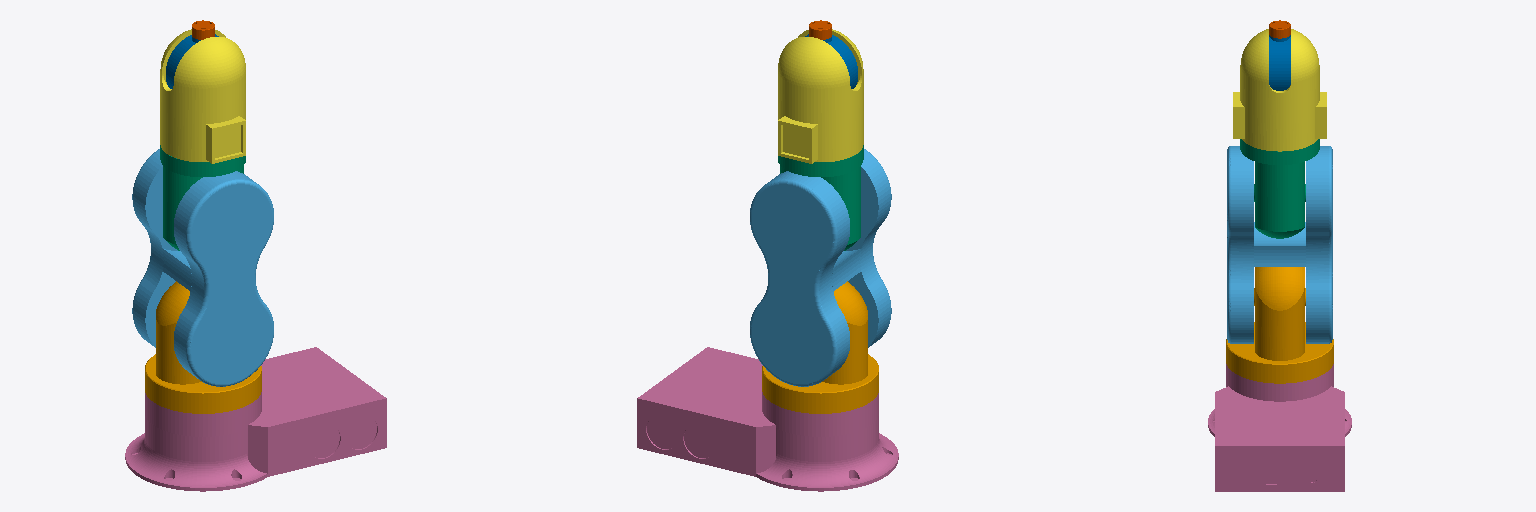
robot.urdf — thor_robot:
<robot name="thor_robot" version="1.0">
  <joint name="junta1" type="revolute">
    <limit lower="-3.140000" upper="3.140000" effort="0.000000" velocity="0.000000"/>
    <origin rpy="0.000000 0.000000 0.000000" xyz="0.000000 0.000000 0.098000"/>
    <parent link="base.000"/>
    <child link="Art1_3d_link"/>
    <axis xyz="0.000000 0.000000 1.000000"/>
  </joint>
  <joint name="junta2" type="revolute">
    <limit lower="-3.140000" upper="3.140000" effort="0.000000" velocity="0.000000"/>
    <origin rpy="-1.570796 0.000000 0.000000" xyz="0.000000 -0.000000 0.098000"/>
    <parent link="Art1_3d_link"/>
    <child link="art2_3d_link"/>
    <axis xyz="0.000000 0.000000 1.000000"/>
  </joint>
  <joint name="junta3" type="revolute">
    <limit lower="-3.140000" upper="3.140000" effort="0.000000" velocity="0.000000"/>
    <origin rpy="-0.000000 0.000000 0.000000" xyz="0.000000 -0.160000 -0.000000"/>
    <parent link="art2_3d_link"/>
    <child link="art3_3d_link"/>
    <axis xyz="0.000000 0.000000 1.000000"/>
  </joint>
  <joint name="junta4" type="revolute">
    <limit lower="-3.140000" upper="3.140000" effort="0.000000" velocity="0.000000"/>
    <origin rpy="1.570796 0.000000 0.000000" xyz="0.000000 -0.088500 -0.000000"/>
    <parent link="art3_3d_link"/>
    <child link="art4_3d_link"/>
    <axis xyz="0.000000 0.000000 1.000000"/>
  </joint>
  <joint name="junta5" type="revolute">
    <limit lower="-3.140000" upper="3.140000" effort="0.000000" velocity="0.000000"/>
    <origin rpy="-1.570796 0.000000 0.000000" xyz="0.000000 -0.000000 0.104500"/>
    <parent link="art4_3d_link"/>
    <child link="art5_3d_link"/>
    <axis xyz="0.000000 0.000000 1.000000"/>
  </joint>
  <joint name="junta6" type="revolute">
    <limit lower="-3.140000" upper="3.140000" effort="0.000000" velocity="0.000000"/>
    <origin rpy="1.570796 0.000000 0.000000" xyz="0.000000 -0.050000 -0.000000"/>
    <parent link="art5_3d_link"/>
    <child link="art6_3d_link"/>
    <axis xyz="0.000000 0.000000 1.000000"/>
  </joint>
  <link name="Art1_3d_link">
    <collision name="Art1_3d_collision">
      <origin rpy="0.000000 0.000000 0.000000" xyz="0.000000 -0.000000 0.000000"/>
      <geometry>
        <mesh filename="meshes/art1_3d.001.obj" scale="0.001000 0.001000 0.001000"/>
      </geometry>
    </collision>
    <inertial>
      <inertia ixx="0.000013" ixy="-0.000000" ixz="0.000000" iyy="0.000013" iyz="0.000000" izz="0.000010"/>
      <origin rpy="0.000000 0.000000 0.000000" xyz="-0.000001 -0.000000 0.061834"/>
      <mass value="0.001000"/>
    </inertial>
    <visual name="Art1_3d">
      <origin rpy="0.000000 0.000000 0.000000" xyz="0.000000 -0.000000 0.000000"/>
      <geometry>
        <mesh filename="meshes/art1_3d.001.obj" scale="0.001000 0.001000 0.001000"/>
      </geometry>
    </visual>
  </link>
  <link name="art2_3d_link">
    <collision name="art2_3d_collision">
      <origin rpy="1.570796 0.000000 0.000000" xyz="0.000000 0.000000 -0.000000"/>
      <geometry>
        <mesh filename="meshes/art2_3d.001.obj" scale="1.000000 1.000000 1.000000"/>
      </geometry>
    </collision>
    <inertial>
      <inertia ixx="0.000015" ixy="0.000000" ixz="0.000000" iyy="0.000013" iyz="-0.000000" izz="0.000010"/>
      <origin rpy="0.000000 0.000000 0.000000" xyz="-0.000000 -0.080000 -0.000000"/>
      <mass value="0.001000"/>
    </inertial>
    <visual name="art2_3d">
      <origin rpy="1.570796 0.000000 0.000000" xyz="0.000000 0.000000 -0.000000"/>
      <geometry>
        <mesh filename="meshes/art2_3d.001.obj" scale="1.000000 1.000000 1.000000"/>
      </geometry>
    </visual>
  </link>
  <link name="art3_3d_link">
    <collision name="art3_3d_collision">
      <origin rpy="1.570796 0.000000 0.000000" xyz="0.000000 0.000000 0.000000"/>
      <geometry>
        <mesh filename="meshes/art3_3d.001.obj" scale="1.000000 1.000000 1.000000"/>
      </geometry>
    </collision>
    <inertial>
      <inertia ixx="0.000013" ixy="0.000000" ixz="0.000000" iyy="0.000013" iyz="-0.000000" izz="0.000010"/>
      <origin rpy="0.000000 0.000000 0.000000" xyz="0.000000 -0.021415 -0.000001"/>
      <mass value="0.001000"/>
    </inertial>
    <visual name="art3_3d">
      <origin rpy="1.570796 0.000000 0.000000" xyz="0.000000 0.000000 0.000000"/>
      <geometry>
        <mesh filename="meshes/art3_3d.001.obj" scale="1.000000 1.000000 1.000000"/>
      </geometry>
    </visual>
  </link>
  <link name="art4_3d_link">
    <collision name="art4_3d_collision">
      <origin rpy="0.000000 0.000000 0.000000" xyz="0.000000 -0.000000 0.000000"/>
      <geometry>
        <mesh filename="meshes/art4_3d.001.obj" scale="1.000000 1.000000 1.000000"/>
      </geometry>
    </collision>
    <inertial>
      <inertia ixx="0.000013" ixy="0.000000" ixz="0.000000" iyy="0.000013" iyz="-0.000000" izz="0.000010"/>
      <origin rpy="0.000000 0.000000 0.000000" xyz="-0.000000 -0.000000 0.060781"/>
      <mass value="0.001000"/>
    </inertial>
    <visual name="art4_3d">
      <origin rpy="0.000000 0.000000 0.000000" xyz="0.000000 -0.000000 0.000000"/>
      <geometry>
        <mesh filename="meshes/art4_3d.001.obj" scale="1.000000 1.000000 1.000000"/>
      </geometry>
    </visual>
  </link>
  <link name="art5_3d_link">
    <collision name="art5_3d_collision">
      <origin rpy="1.570796 0.000000 0.000000" xyz="0.000000 0.000000 0.000000"/>
      <geometry>
        <mesh filename="meshes/art5_3d.001.obj" scale="1.000000 1.000000 1.000000"/>
      </geometry>
    </collision>
    <inertial>
      <inertia ixx="0.000010" ixy="0.000000" ixz="0.000000" iyy="0.000011" iyz="-0.000000" izz="0.000010"/>
      <origin rpy="0.000000 0.000000 0.000000" xyz="-0.000000 -0.000568 0.000000"/>
      <mass value="0.001000"/>
    </inertial>
    <visual name="art5_3d">
      <origin rpy="1.570796 0.000000 0.000000" xyz="0.000000 0.000000 0.000000"/>
      <geometry>
        <mesh filename="meshes/art5_3d.001.obj" scale="1.000000 1.000000 1.000000"/>
      </geometry>
    </visual>
  </link>
  <link name="art6_3d_link">
    <collision name="art6_3d_collision">
      <origin rpy="0.000000 0.000000 0.000000" xyz="0.000000 0.000000 0.000000"/>
      <geometry>
        <mesh filename="meshes/art6_3d.001.obj" scale="1.000000 1.000000 1.000000"/>
      </geometry>
    </collision>
    <inertial>
      <inertia ixx="0.000010" ixy="0.000000" ixz="0.000000" iyy="0.000010" iyz="0.000000" izz="0.000010"/>
      <origin rpy="0.000000 0.000000 0.000000" xyz="0.000000 0.000000 0.006918"/>
      <mass value="0.001000"/>
    </inertial>
    <visual name="art6_3d">
      <origin rpy="0.000000 0.000000 0.000000" xyz="0.000000 0.000000 0.000000"/>
      <geometry>
        <mesh filename="meshes/art6_3d.001.obj" scale="1.000000 1.000000 1.000000"/>
      </geometry>
    </visual>
  </link>
  <link name="base.000">
    <collision name="base_collision">
      <origin rpy="0.000000 0.000000 0.000000" xyz="0.000000 0.000000 0.000000"/>
      <geometry>
        <mesh filename="meshes/base.001.obj" scale="1.000000 1.000000 1.000000"/>
      </geometry>
    </collision>
    <inertial>
      <inertia ixx="0.000010" ixy="0.000000" ixz="-0.000001" iyy="0.000019" iyz="0.000000" izz="0.000019"/>
      <origin rpy="0.000000 0.000000 0.000000" xyz="0.071677 0.000004 0.045401"/>
      <mass value="0.001000"/>
    </inertial>
    <visual name="base">
      <origin rpy="0.000000 0.000000 0.000000" xyz="0.000000 0.000000 0.000000"/>
      <geometry>
        <mesh filename="meshes/base.001.obj" scale="1.000000 1.000000 1.000000"/>
      </geometry>
    </visual>
  </link>
</robot>

--- Render facts (derived) ---
The picture shows the robot from 3 angles, left to right: view 1: azimuth 30°, elevation 25°; view 2: azimuth 150°, elevation 25°; view 3: azimuth 270°, elevation 25°; orthographic projection.
Robot: thor_robot — 7 links, 6 joints (6 revolute); root link base.000; default pose: every joint at zero.
Visible links, largest first — view 1: base.000, art2_3d_link, art4_3d_link, Art1_3d_link, art3_3d_link, art5_3d_link; view 2: base.000, art2_3d_link, art4_3d_link, Art1_3d_link, art3_3d_link, art5_3d_link; view 3: base.000, art2_3d_link, art4_3d_link, Art1_3d_link, art3_3d_link, art5_3d_link.
Link boxes in pixels (x1=…): base.000: x1=125, y1=347, x2=386, y2=491; art2_3d_link: x1=132, y1=149, x2=273, y2=386; art4_3d_link: x1=160, y1=29, x2=245, y2=163; Art1_3d_link: x1=145, y1=281, x2=261, y2=413; art3_3d_link: x1=160, y1=145, x2=245, y2=250; art5_3d_link: x1=166, y1=34, x2=218, y2=88; base.000: x1=637, y1=347, x2=898, y2=491; art2_3d_link: x1=750, y1=149, x2=891, y2=386; art4_3d_link: x1=778, y1=29, x2=863, y2=163; Art1_3d_link: x1=762, y1=281, x2=878, y2=413; art3_3d_link: x1=778, y1=145, x2=863, y2=250; art5_3d_link: x1=805, y1=34, x2=857, y2=88; base.000: x1=1208, y1=364, x2=1351, y2=491; art2_3d_link: x1=1227, y1=146, x2=1332, y2=343; art4_3d_link: x1=1233, y1=29, x2=1326, y2=151; Art1_3d_link: x1=1226, y1=267, x2=1333, y2=383; art3_3d_link: x1=1240, y1=139, x2=1319, y2=238; art5_3d_link: x1=1269, y1=35, x2=1290, y2=90.
Size in the robot's own frame: 0.3194 by 0.2 by 0.613 metres.
Meshes: 7 distinct files referenced, 7 mesh visuals loaded (7 OBJ).
